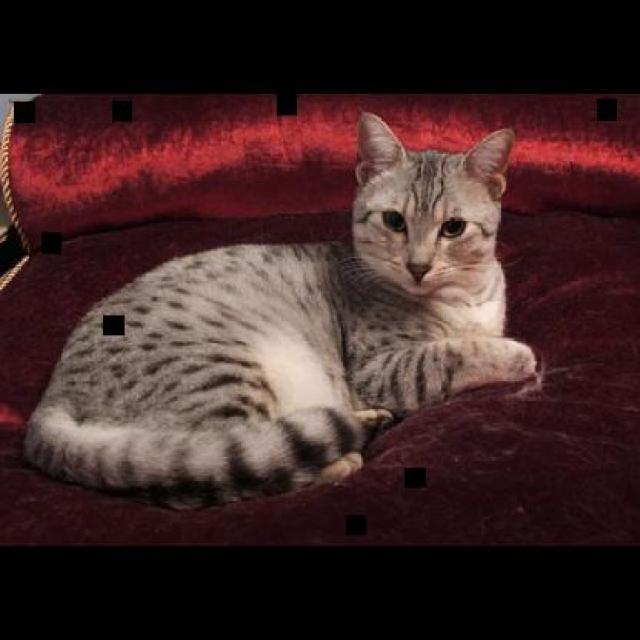unauthorized: (20, 108, 538, 510)
